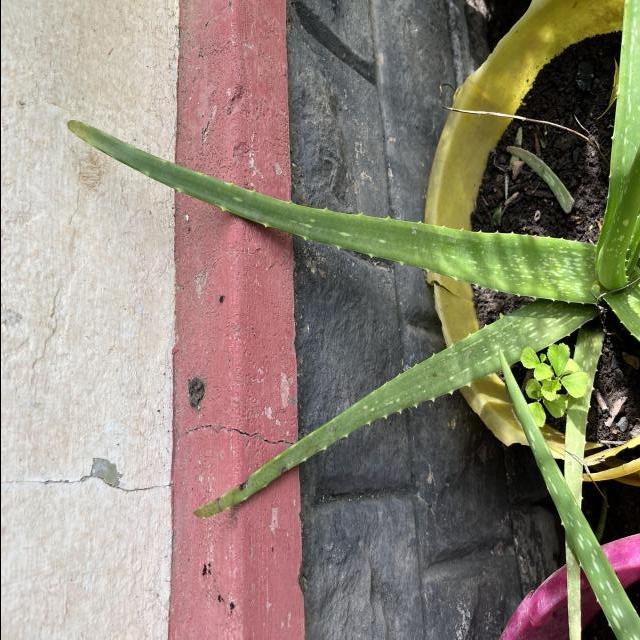Aloe vera: (61, 114, 606, 306), (188, 298, 584, 525)
